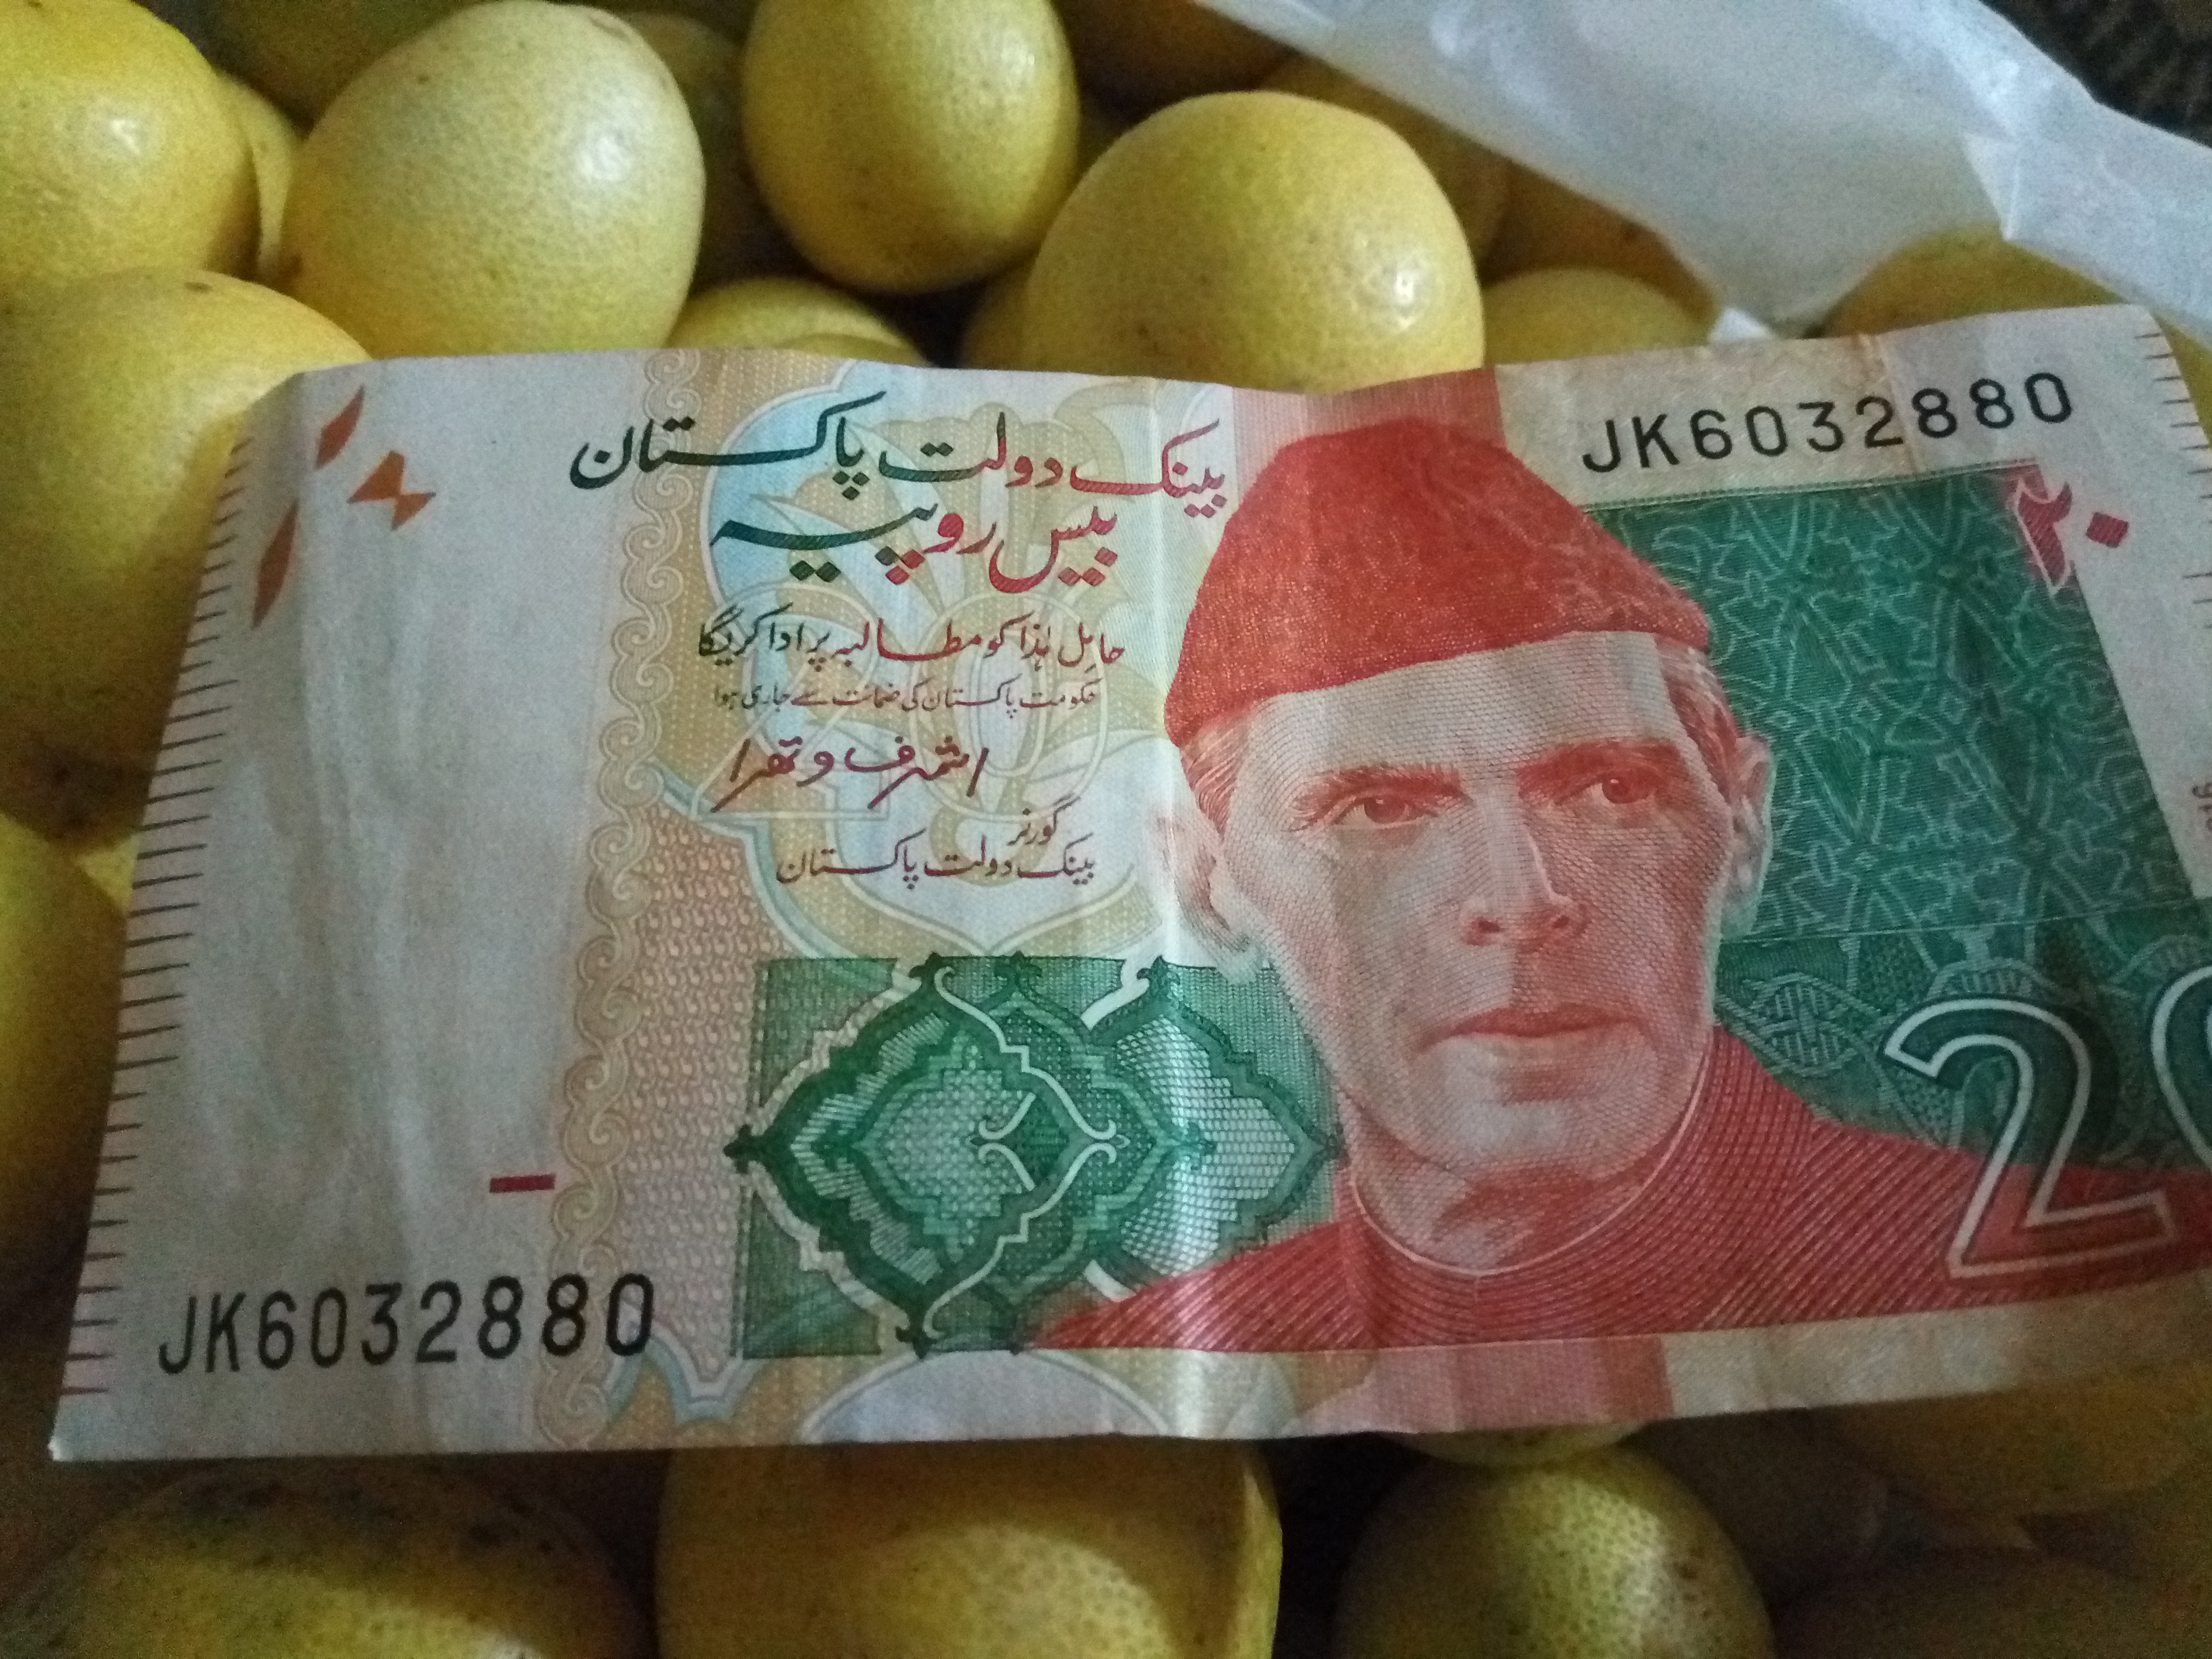20 rupee: (57, 179, 2186, 1659)
